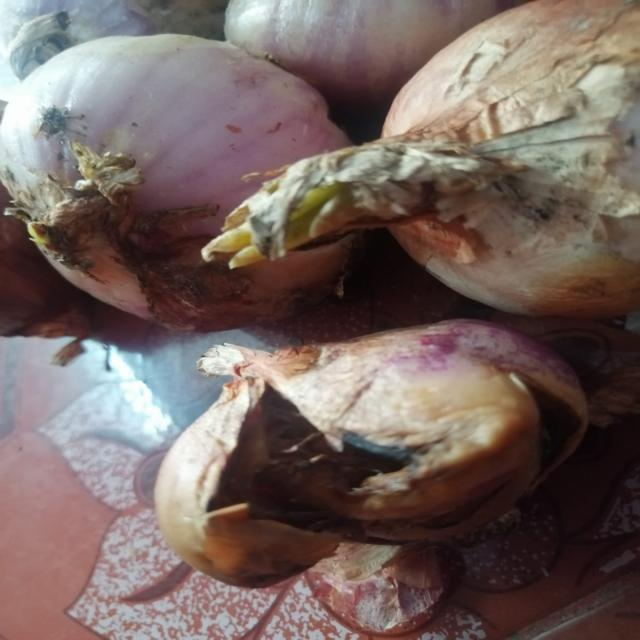rotten: (140, 404, 403, 512), (90, 204, 192, 312)
sprouting: (214, 186, 420, 268)
